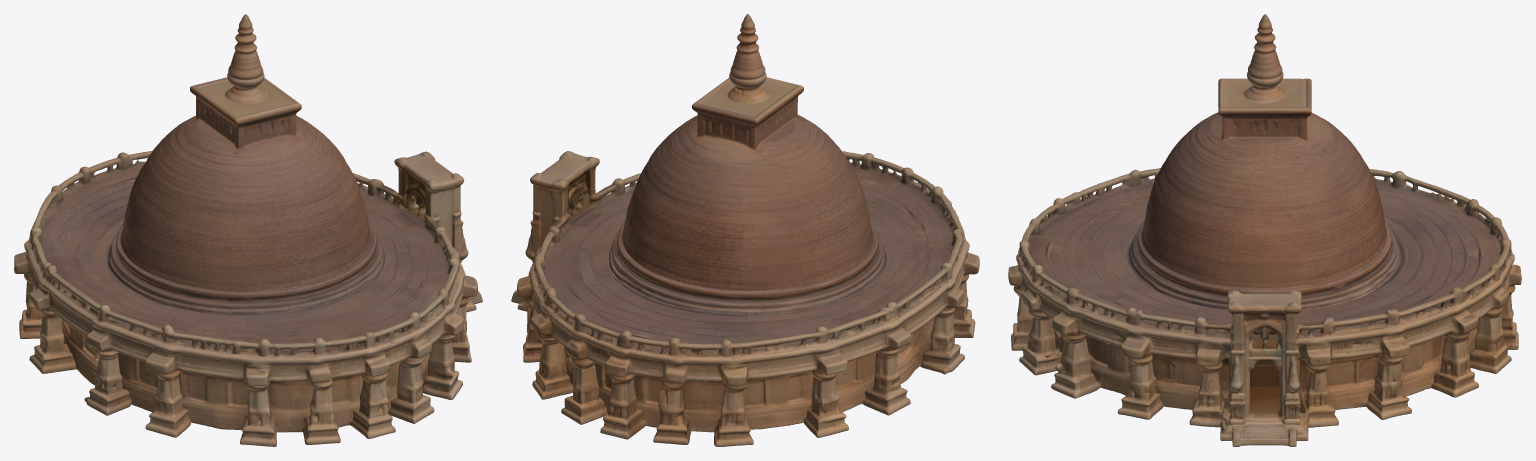
File: sanchi_stupa.glb
3 views of the same model, side by side, from view 1: azimuth 30°, elevation 25°; view 2: azimuth 150°, elevation 25°; view 3: azimuth 270°, elevation 25° (orthographic).
Parts seen in each view (by area): view 1: tripo_node_f658347e-e66e-4f01-9b47-360ff8824a17; view 2: tripo_node_f658347e-e66e-4f01-9b47-360ff8824a17; view 3: tripo_node_f658347e-e66e-4f01-9b47-360ff8824a17.
Part boxes in pixels (left/top/right/bottom): tripo_node_f658347e-e66e-4f01-9b47-360ff8824a17: left=14, top=14, right=482, bottom=446; tripo_node_f658347e-e66e-4f01-9b47-360ff8824a17: left=511, top=14, right=979, bottom=446; tripo_node_f658347e-e66e-4f01-9b47-360ff8824a17: left=1008, top=14, right=1521, bottom=446.
Size of the model in its own units: 0.9063 by 0.7039 by 1.
Materials: 1 (1 with a texture image).
